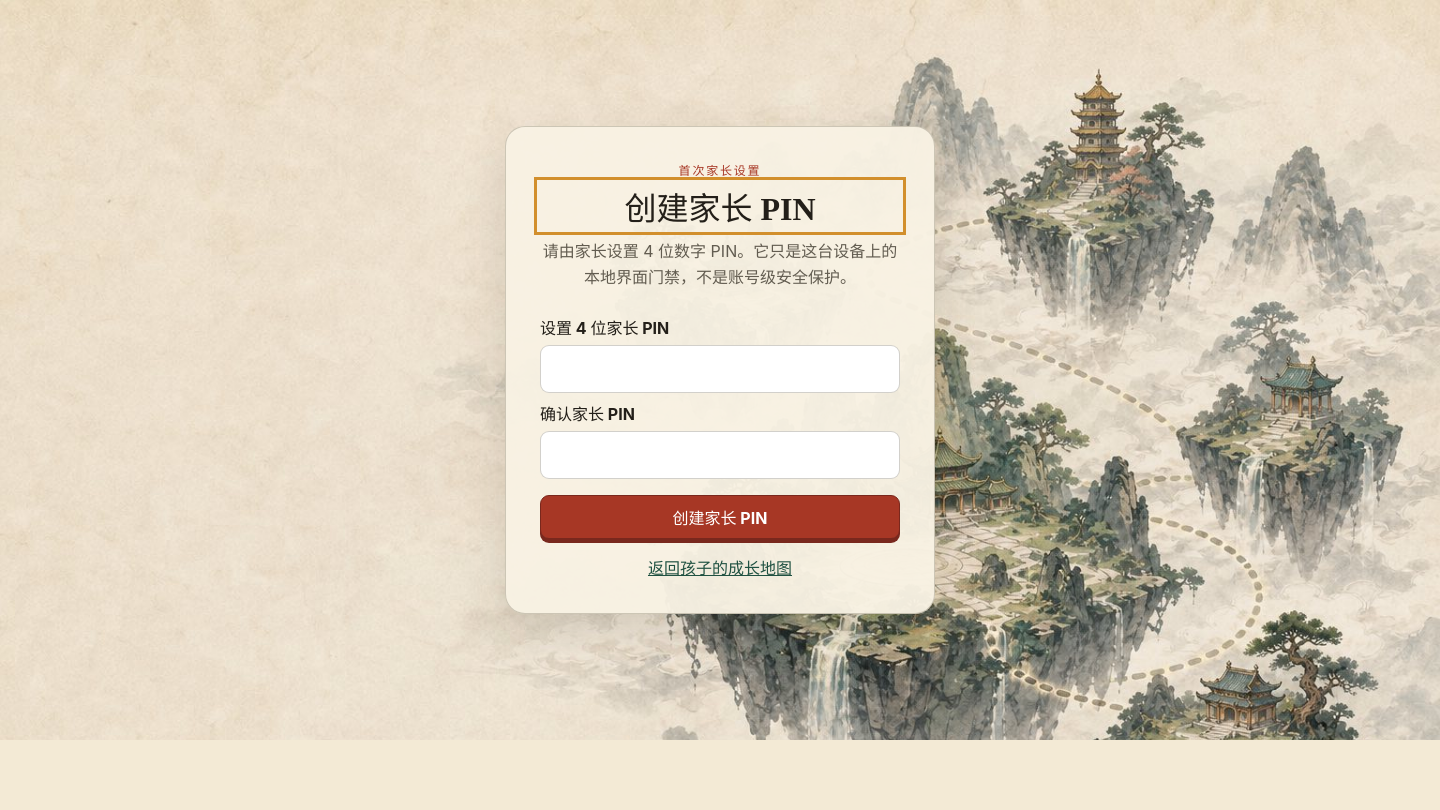
Test case: ParentAccessGate › keeps the recovery code visible when credential storage is unknown
The width and height of the screenshot is (1440, 810).
Step 1. Type "4826" into the password field labelled "设置 4 位家长 PIN" → coordinates (720, 369), box [540,345,900,393]
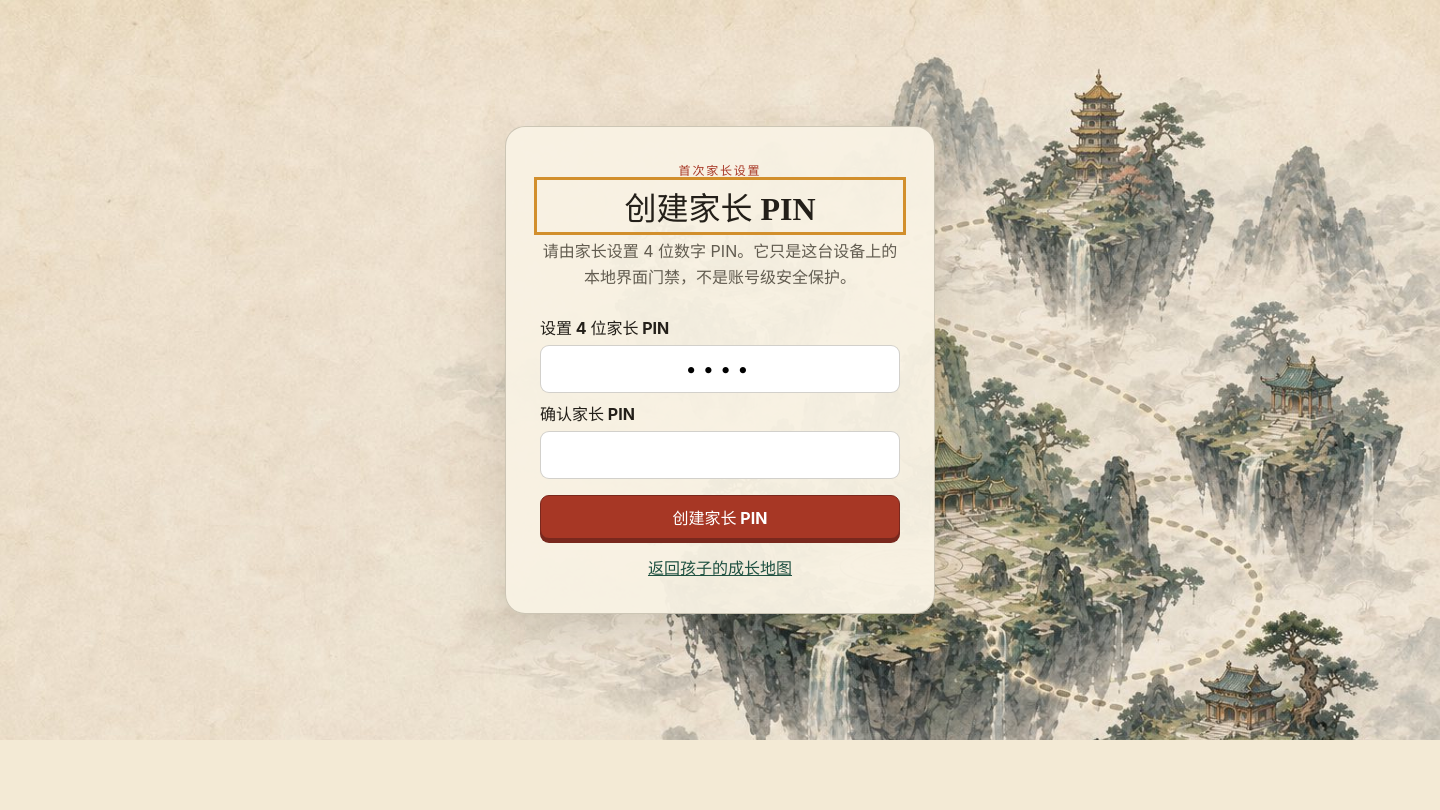
Step 2. Type "4826" into the password field labelled "确认家长 PIN" → coordinates (720, 455), box [540,431,900,479]
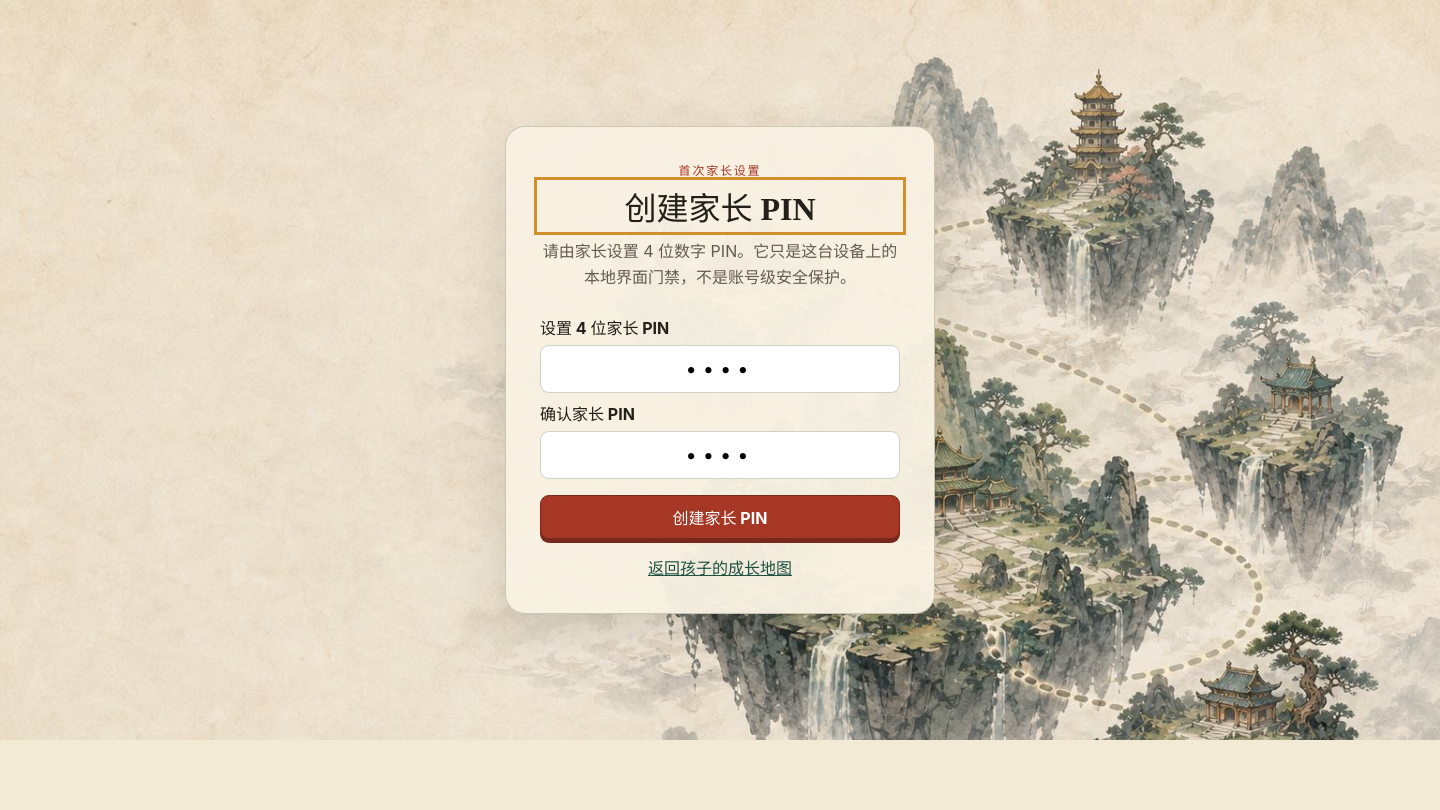
Step 3. Click the button "创建家长 PIN" → coordinates (720, 517), box [540,495,900,539]
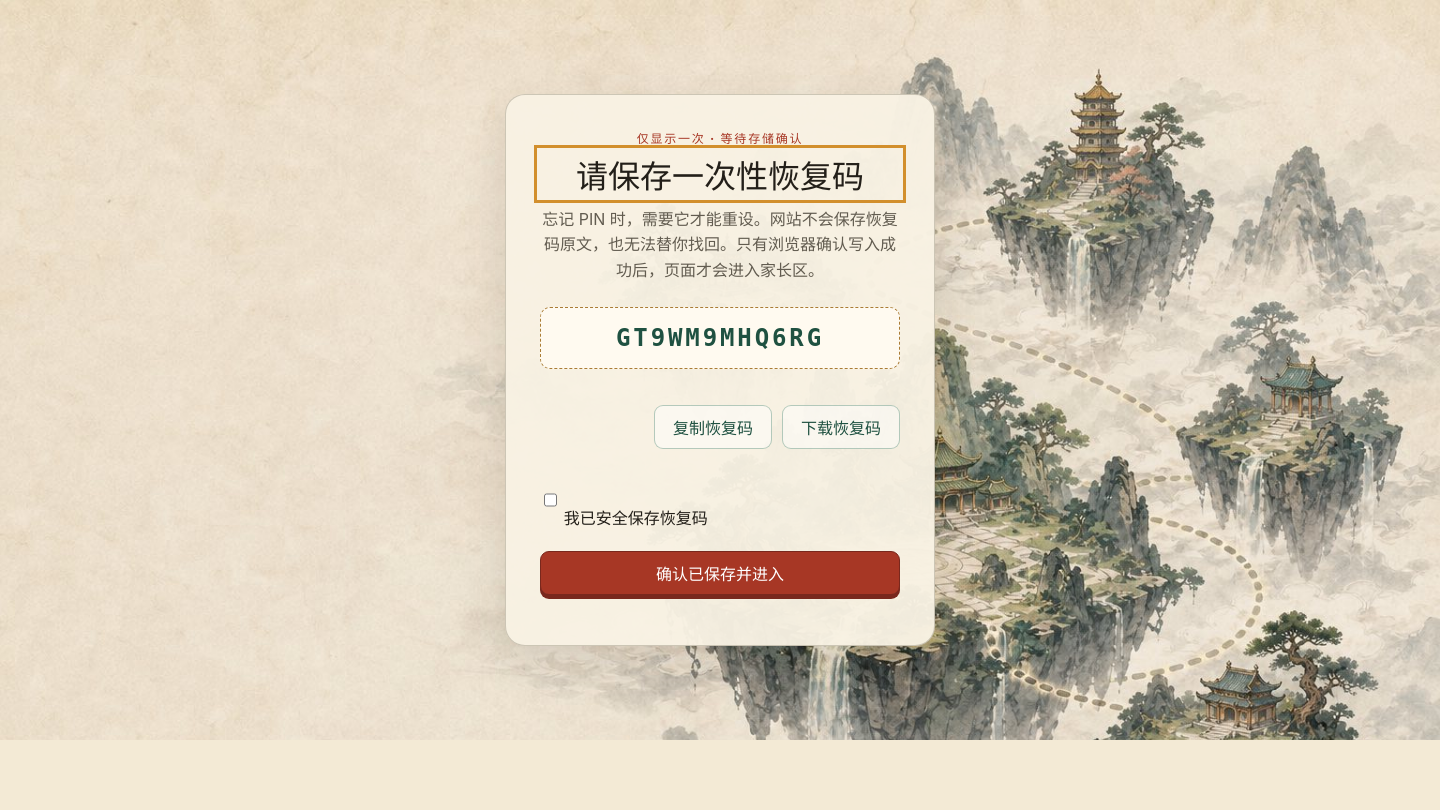
Step 4. Click the checkbox labelled "我已安全保存恢复码" → coordinates (550, 500), box [544,476,557,524]
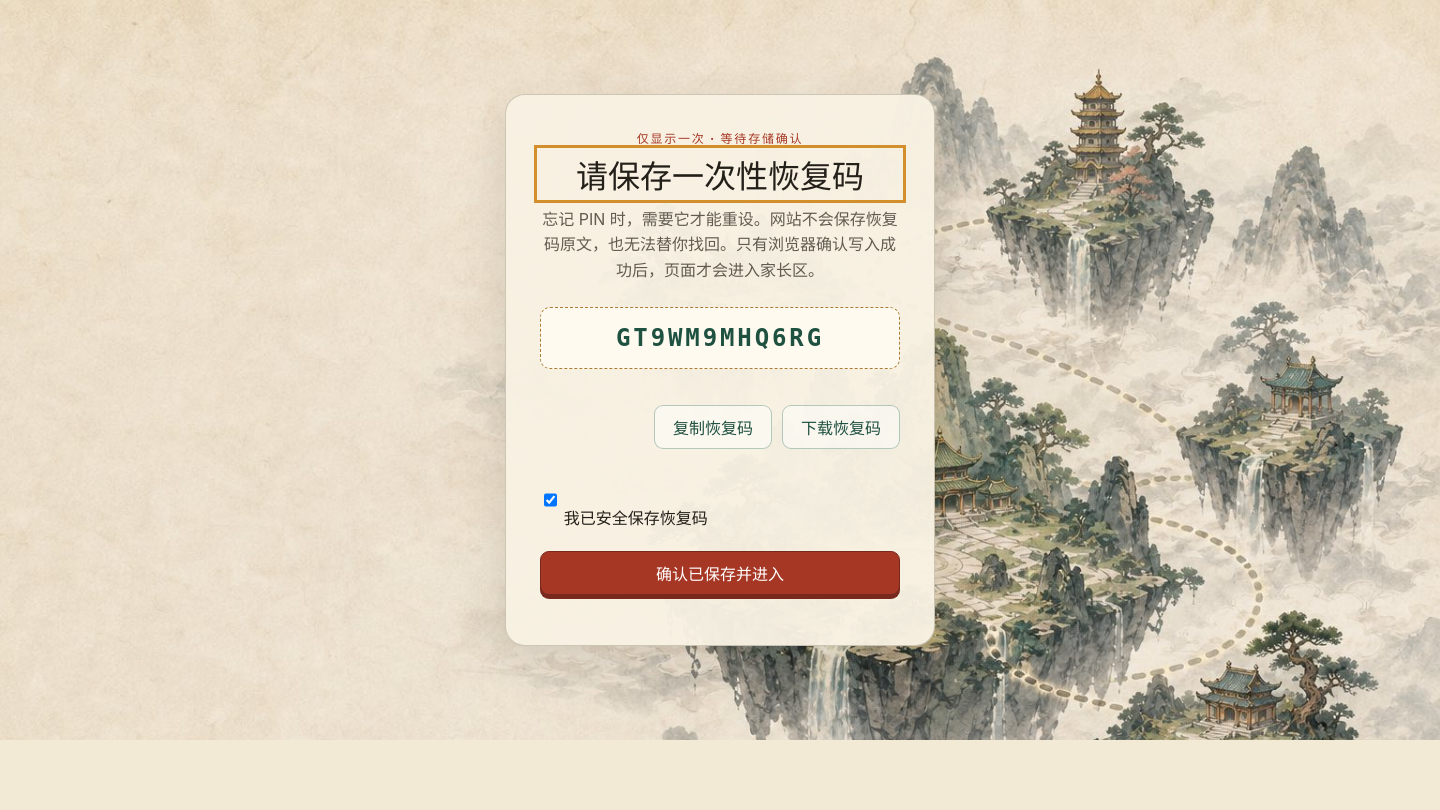
Step 5. Click the button "确认已保存并进入" → coordinates (720, 573), box [540,551,900,595]
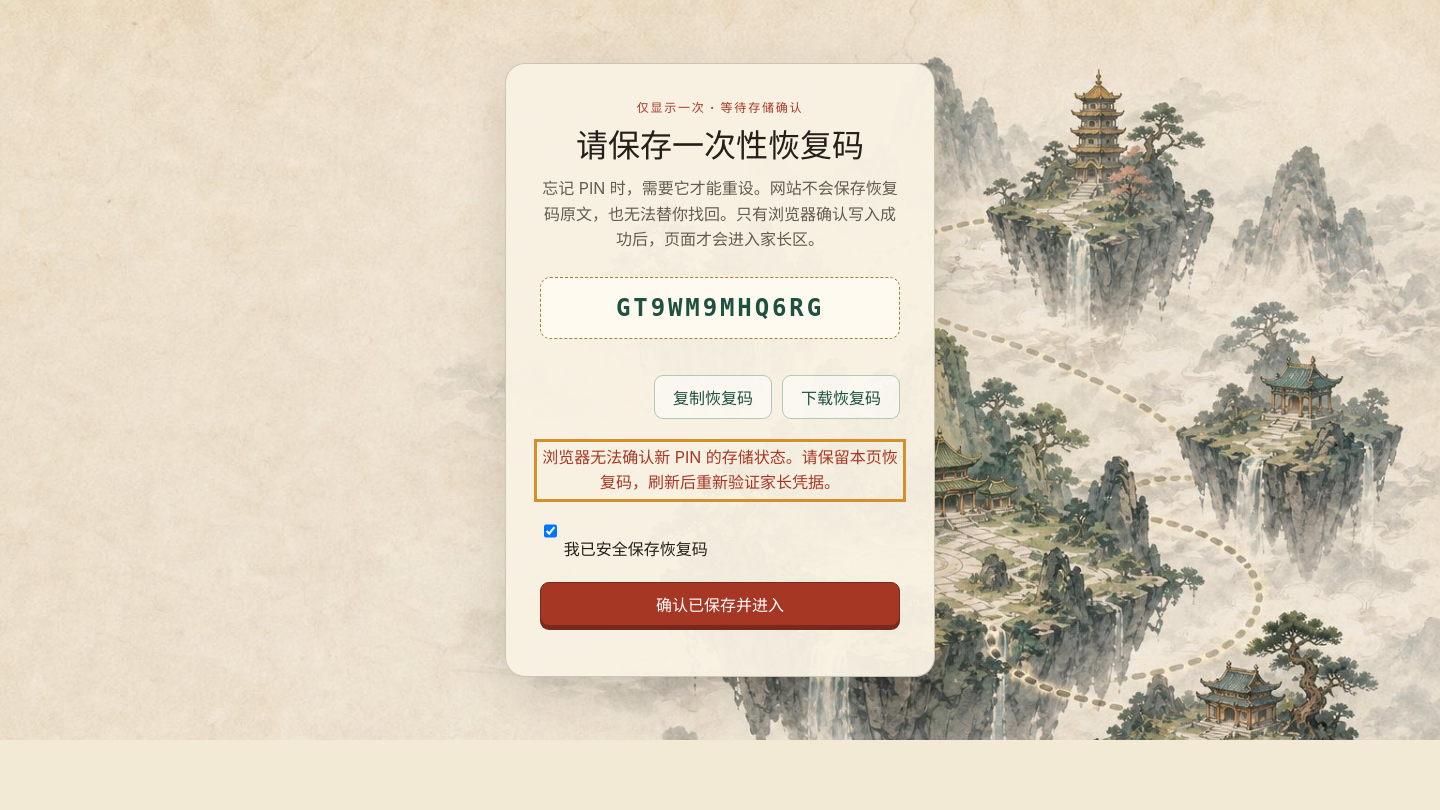
Expected: the message does not show "旧凭据仍有效", [540,445,900,496]
Now the message shows "无法确认新 PIN 的存储状态", box [542,447,898,492]
